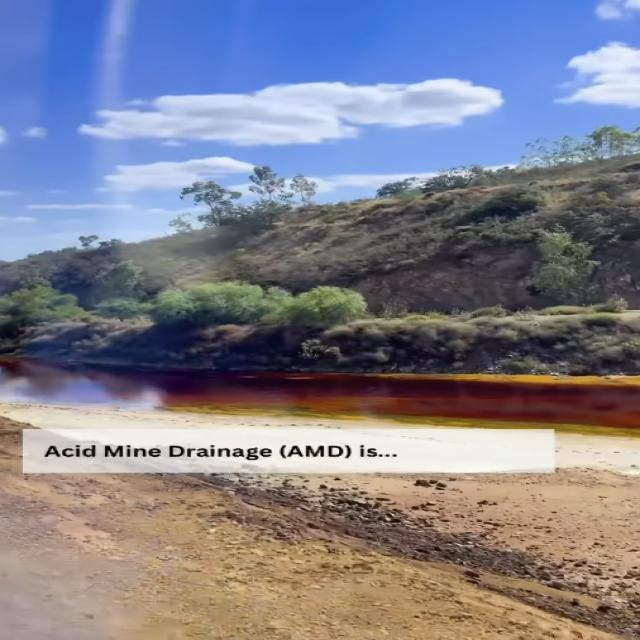yellow_boy: (0, 362, 639, 436)
